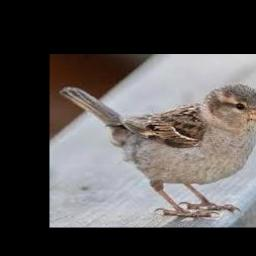Sparrow: (59, 83, 256, 217)
